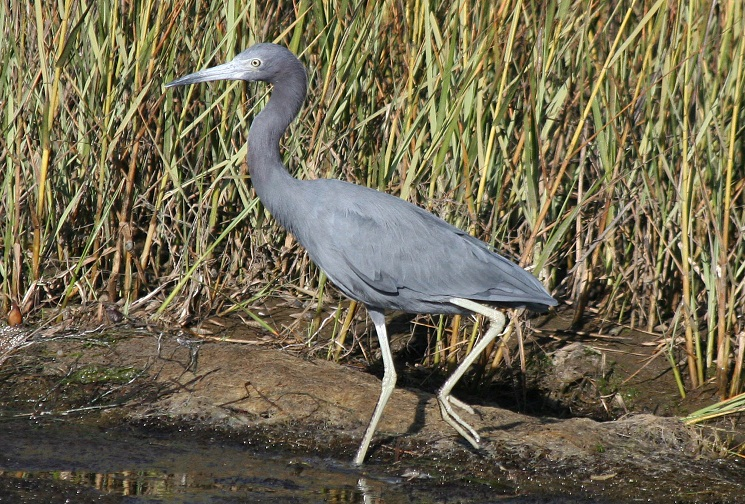heron: (161, 36, 556, 469)
